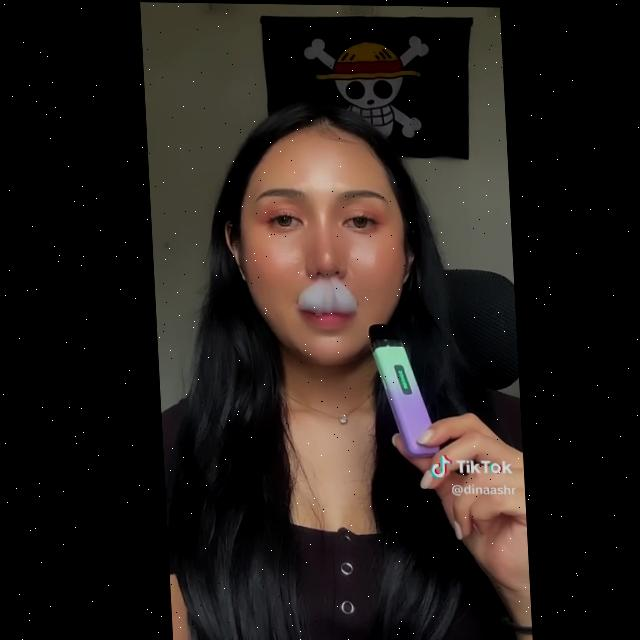vape: (364, 322, 437, 457)
